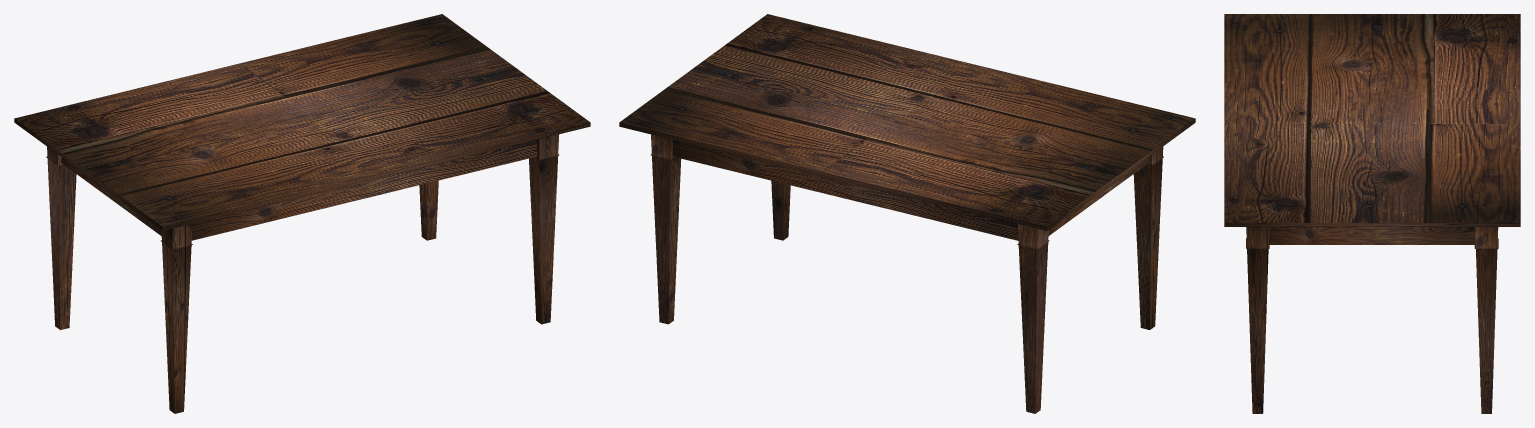
3 renders of one model, left to right at view 1: azimuth 30°, elevation 25°; view 2: azimuth 150°, elevation 25°; view 3: azimuth 270°, elevation 25°, orthographic.
Parts seen in each view (by area): view 1: Object_2; view 2: Object_2; view 3: Object_2.
Boxes of the visible parts, x1,y1,x2,y2 form: Object_2: (14, 14, 590, 413); Object_2: (619, 14, 1195, 413); Object_2: (1224, 14, 1520, 413).
Bounding box in the file's own units: 150 × 68.24 × 90.
Materials: 1 (1 with a texture image).
